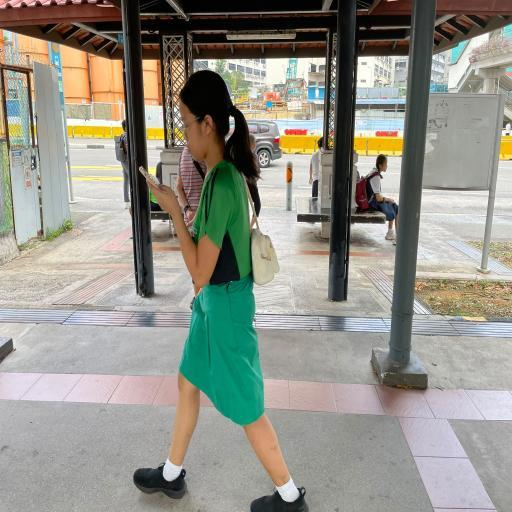person_left: (140, 68, 297, 512)
